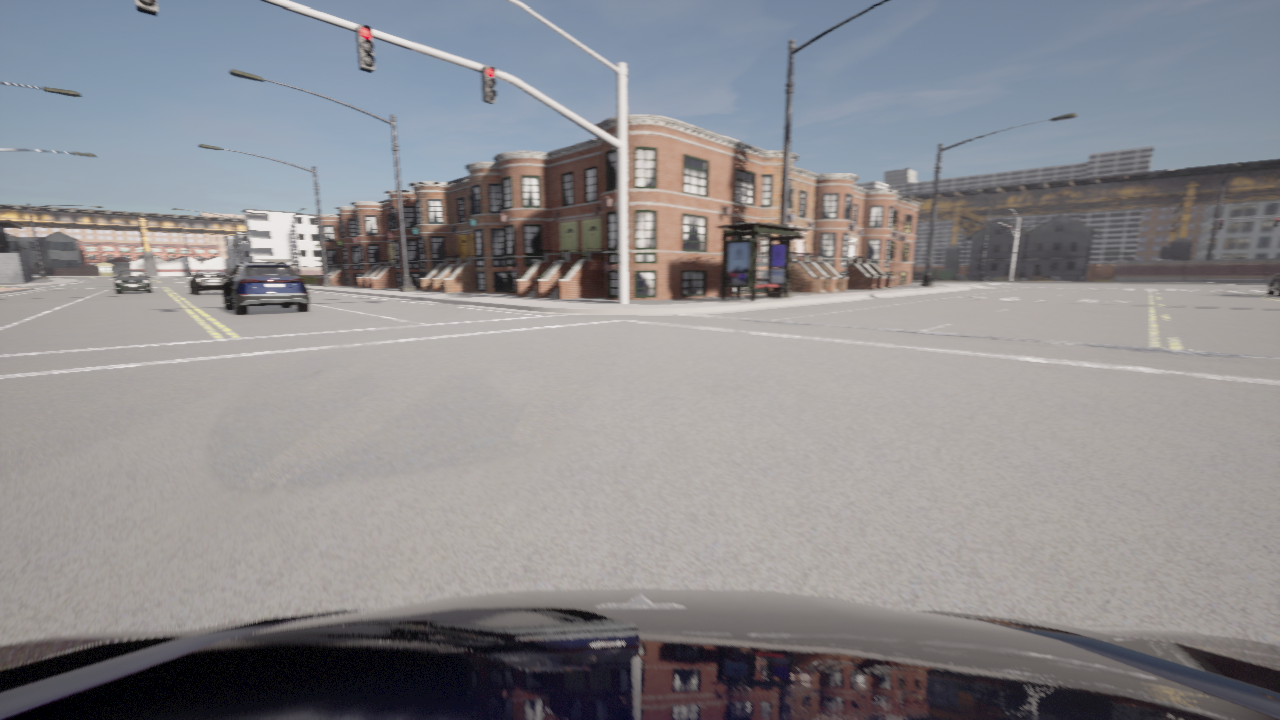cyclist: (0, 588, 1279, 719), (221, 261, 309, 314), (187, 270, 227, 294), (112, 270, 152, 293), (1267, 273, 1279, 296)
